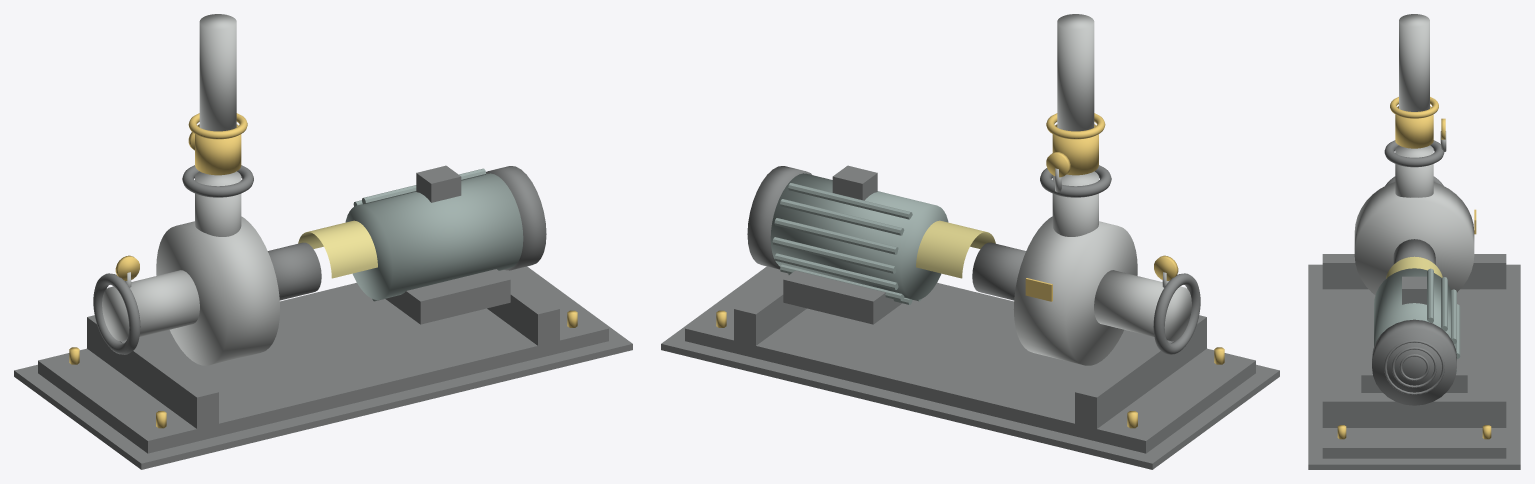
File: transfer_pump_set.glb
3 renders of one model, left to right at view 1: azimuth 30°, elevation 25°; view 2: azimuth 150°, elevation 25°; view 3: azimuth 270°, elevation 25°, orthographic. The views are drawn at different scales.
Parts seen in each view (by area): view 1: skid_base, motor_body, pump_volute, grout_layer, skid_beam_1, pump_suction, pipe_spool, motor_mount, skid_beam_2, coupling_guard, motor_fan_cover, pump_discharge (+6 smaller); view 2: skid_base, pump_volute, grout_layer, motor_body, skid_beam_1, pump_suction, pipe_spool, motor_mount, coupling_guard, skid_beam_2, motor_fan_cover, bearing_housing (+11 smaller); view 3: skid_base, pump_volute, grout_layer, skid_beam_2, motor_fan_cover, pipe_spool, motor_body, skid_beam_1, pump_discharge, motor_mount, discharge_valve_body, pump_discharge_flange (+10 smaller).
Part boxes in pixels (box(x1,y1,x2,y2)): skid_base: box(38, 267, 608, 453); motor_body: box(345, 173, 523, 300); pump_volute: box(156, 216, 280, 365); grout_layer: box(14, 266, 632, 469); skid_beam_1: box(87, 315, 218, 428); pump_suction: box(102, 270, 199, 341); pipe_spool: box(199, 14, 236, 131); motor_mount: box(385, 269, 510, 324); skid_beam_2: box(487, 270, 559, 345); coupling_guard: box(298, 220, 377, 278); motor_fan_cover: box(486, 166, 546, 270); pump_discharge: box(195, 171, 241, 236); skid_base: box(685, 267, 1255, 453); pump_volute: box(1013, 216, 1137, 365); grout_layer: box(661, 266, 1279, 469); motor_body: box(770, 173, 948, 300); skid_beam_1: box(1075, 315, 1206, 428); pump_suction: box(1094, 270, 1191, 341); pipe_spool: box(1057, 14, 1094, 131); motor_mount: box(783, 270, 901, 324); coupling_guard: box(916, 220, 995, 278); skid_beam_2: box(734, 272, 806, 345); motor_fan_cover: box(747, 166, 811, 269); bearing_housing: box(972, 242, 1025, 300); skid_base: box(1322, 289, 1506, 458); pump_volute: box(1354, 182, 1474, 295); grout_layer: box(1308, 264, 1520, 469); skid_beam_2: box(1322, 393, 1506, 427); motor_fan_cover: box(1372, 319, 1456, 405); pipe_spool: box(1399, 14, 1429, 111); motor_body: box(1374, 268, 1454, 346); skid_beam_1: box(1322, 254, 1506, 289); pump_discharge: box(1395, 145, 1433, 197); motor_mount: box(1361, 338, 1467, 392); discharge_valve_body: box(1395, 106, 1433, 148); pump_discharge_flange: box(1384, 140, 1444, 167).
Size of the model in its own units: 4.9 by 3.5 by 2.2.
